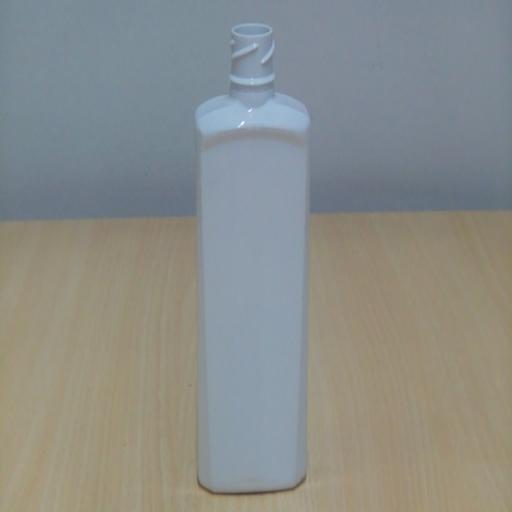Good: (187, 14, 320, 506)
